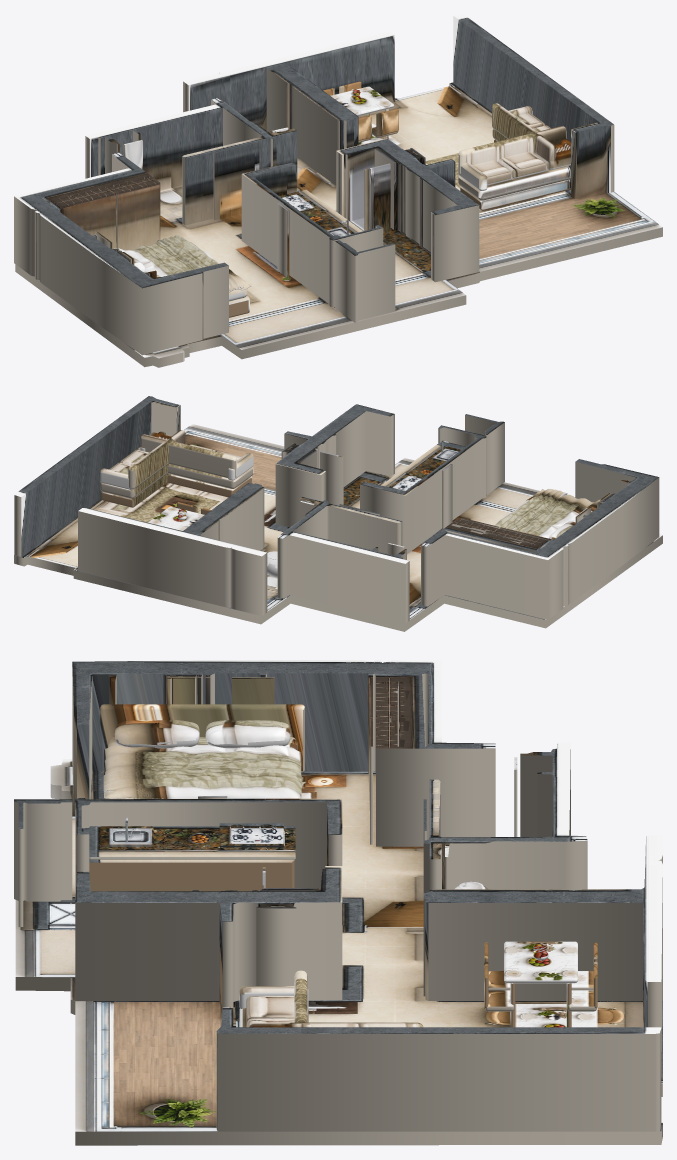
File: p13-09-u06-0112-image-model.glb
3 renders of one model, top to bottom at view 1: azimuth 30°, elevation 25°; view 2: azimuth 150°, elevation 25°; view 3: azimuth 270°, elevation 25°, orthographic. The views are drawn at different scales.
Parts seen in each view (by area): view 1: Partition walls, Apartment floor, Sofa back.001, Draped bed linen, Upholstered sofa frame.001, Sofa back, Sofa plinth.001, Stone worktop, Draped bed linen.001, Marble dining top, Seat cushion.004, Seat cushion.003 (+2 smaller); view 2: Partition walls, Apartment floor, Sofa back.001, Draped bed linen, Sofa back, Draped bed linen.001, Stone worktop, Upholstered sofa frame.001, Sofa plinth.001, Marble dining top, Upholstered sofa frame, Sofa plinth (+2 smaller); view 3: Partition walls, Apartment floor, Draped bed linen, Kitchen cabinets, Stone worktop, Upholstered headboard, Draped bed linen.001, Marble dining top, Tailored pillow, Tailored pillow.001, Inset cooktop, Seat cushion.003 (+4 smaller).
Boxes of the visible parts, x1,y1,x2,y2 form: Partition walls: (14,14,614,355); Apartment floor: (15,82,662,367); Sofa back.001: (458,126,566,174); Draped bed linen: (124,237,250,292); Upholstered sofa frame.001: (458,165,570,200); Sofa back: (492,103,556,161); Sofa plinth.001: (460,179,570,210); Stone worktop: (279,189,362,233); Draped bed linen.001: (156,235,244,291); Marble dining top: (330,86,393,115); Seat cushion.004: (498,151,546,178); Seat cushion.003: (472,160,511,185); Partition walls: (14,396,659,623); Apartment floor: (14,424,662,631); Sofa back.001: (140,434,236,477); Draped bed linen: (494,489,594,538); Sofa back: (128,430,185,488); Draped bed linen.001: (495,489,567,529); Stone worktop: (381,442,465,487); Upholstered sofa frame.001: (167,464,253,488); Sofa plinth.001: (167,473,251,497); Marble dining top: (148,506,204,530); Upholstered sofa frame: (100,464,167,498); Sofa plinth: (101,473,167,507); Partition walls: (14,660,662,1131); Apartment floor: (15,759,662,1145); Draped bed linen: (104,745,301,798); Kitchen cabinets: (89,859,294,891); Stone worktop: (81,826,295,859); Upholstered headboard: (100,704,304,772); Draped bed linen.001: (103,768,301,793); Marble dining top: (504,941,577,983); Tailored pillow: (114,720,199,748); Tailored pillow.001: (205,720,290,748); Inset cooktop: (219,823,283,847); Seat cushion.003: (246,996,294,1022).
Bounding box in the file's own units: 9.33 × 1.3 × 6.85.
Materials: 13 (3 with a texture image).
